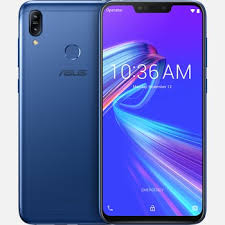asus: (14, 1, 210, 224), (95, 2, 206, 223), (13, 1, 104, 224)
